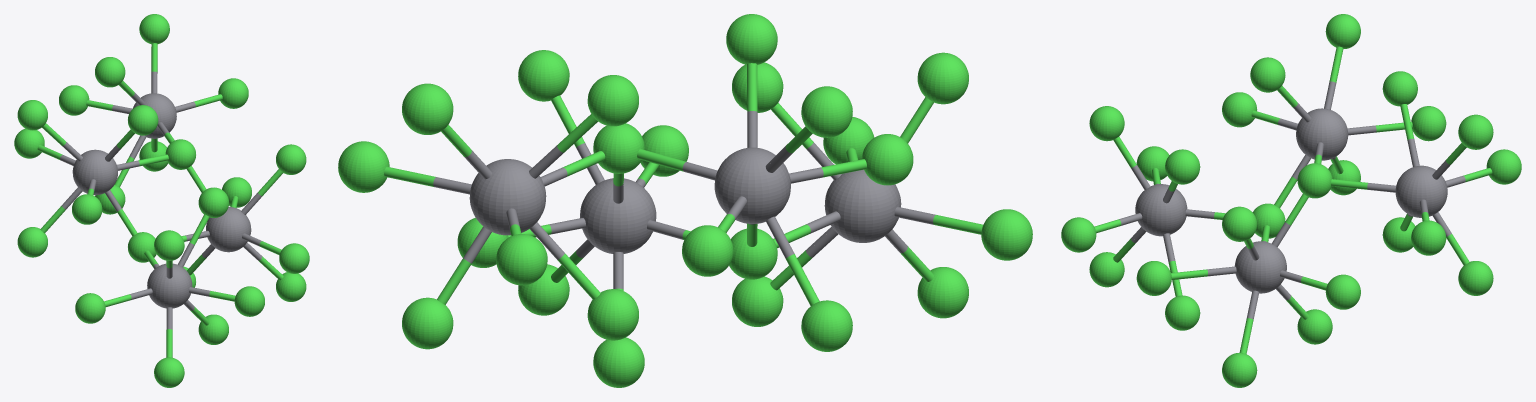
Rendered from lead(ii)chloride.dae.
The picture shows the model from 3 angles, left to right: view 1: azimuth 30°, elevation 25°; view 2: azimuth 150°, elevation 25°; view 3: azimuth 270°, elevation 25°; orthographic projection. The views are drawn at different scales.
Visible parts, largest first — view 1: Ball_Lead_001, Ball_Lead_003, Ball_Lead_004, Ball_Lead_002, Ball_Chlorine_007, Ball_Chlorine_012, Ball_Chlorine_001, Ball_Chlorine_010, Ball_Chlorine_021, Ball_Chlorine_011, Ball_Chlorine_009, Ball_Chlorine_014 (+15 smaller); view 2: Ball_Lead_004, Ball_Lead_003, Ball_Lead_002, Ball_Lead_001, Ball_Chlorine_015, Ball_Chlorine_002, Ball_Chlorine_009, Ball_Chlorine_019, Ball_Chlorine_020, Ball_Chlorine_011, Ball_Chlorine_017, Ball_Chlorine_014 (+16 smaller); view 3: Ball_Lead_002, Ball_Lead_003, Ball_Lead_001, Ball_Lead_004, Ball_Chlorine_021, Ball_Chlorine_018, Ball_Chlorine_012, Ball_Chlorine_013, Ball_Chlorine_011, Ball_Chlorine_008, Ball_Chlorine_017, Ball_Chlorine_006 (+16 smaller).
Boxes of the visible parts, x1,y1,x2,y2 form: Ball_Lead_001: (147,263,192,308); Ball_Lead_003: (72,149,117,195); Ball_Lead_004: (206,207,251,252); Ball_Lead_002: (132,93,176,138); Ball_Chlorine_007: (72,194,102,224); Ball_Chlorine_012: (234,286,264,316); Ball_Chlorine_001: (279,243,309,273); Ball_Chlorine_010: (154,357,184,387); Ball_Chlorine_021: (128,105,158,135); Ball_Chlorine_011: (154,230,184,260); Ball_Chlorine_009: (75,293,105,323); Ball_Chlorine_014: (95,57,125,87); Ball_Lead_004: (580,178,656,253); Ball_Lead_003: (714,147,790,223); Ball_Lead_002: (469,159,546,235); Ball_Lead_001: (824,169,901,242); Ball_Chlorine_015: (496,234,547,285); Ball_Chlorine_002: (682,225,733,276); Ball_Chlorine_009: (981,209,1032,260); Ball_Chlorine_019: (801,300,852,351); Ball_Chlorine_020: (801,86,852,137); Ball_Chlorine_011: (917,52,968,104); Ball_Chlorine_017: (402,83,453,134); Ball_Chlorine_014: (587,75,638,126); Ball_Lead_002: (1395,165,1447,217); Ball_Lead_003: (1296,108,1348,160); Ball_Lead_001: (1135,184,1187,236); Ball_Lead_004: (1234,241,1286,293); Ball_Chlorine_021: (1250,57,1285,92); Ball_Chlorine_018: (1411,220,1446,255); Ball_Chlorine_012: (1061,217,1096,252); Ball_Chlorine_013: (1165,295,1200,330); Ball_Chlorine_011: (1089,106,1124,141); Ball_Chlorine_008: (1325,274,1360,309); Ball_Chlorine_017: (1458,114,1493,149); Ball_Chlorine_006: (1165,149,1200,184).
Bounding box in the file's own units: 10.79 × 12.95 × 7.79.
